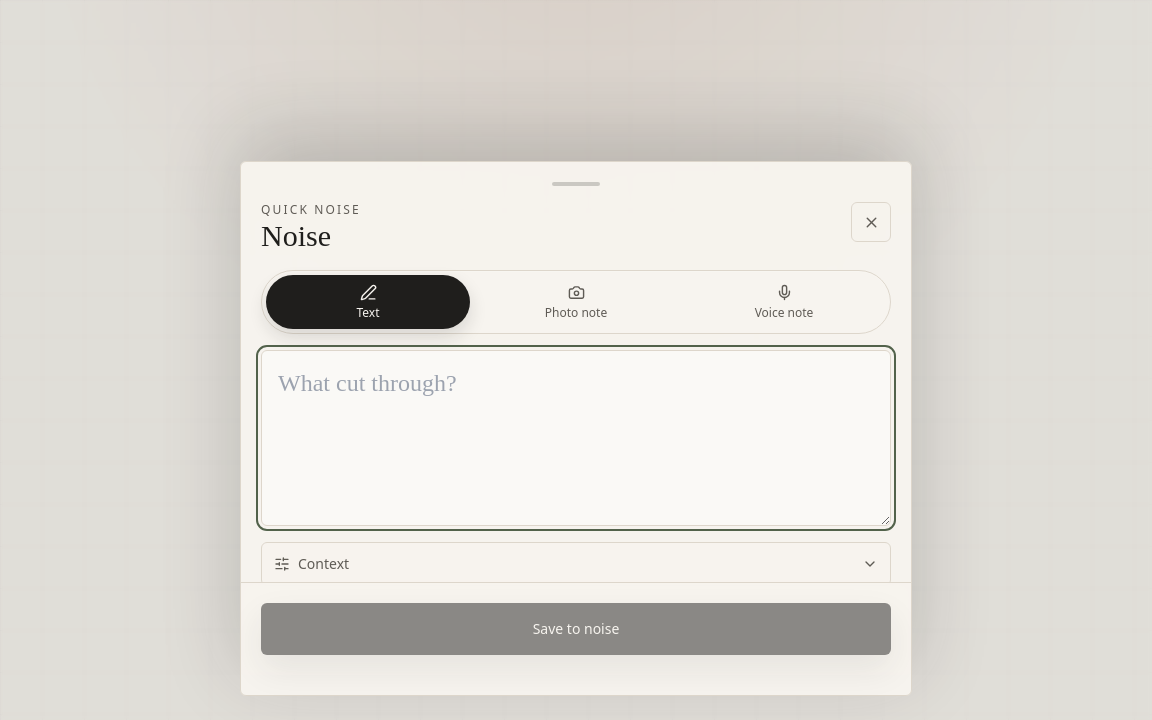
ZeroCaptureSheet › wechselt den Modus per Klick
The image size is (1152, 720).
Click the button "Voice note".
click(784, 302)  # box [682, 275, 886, 329]
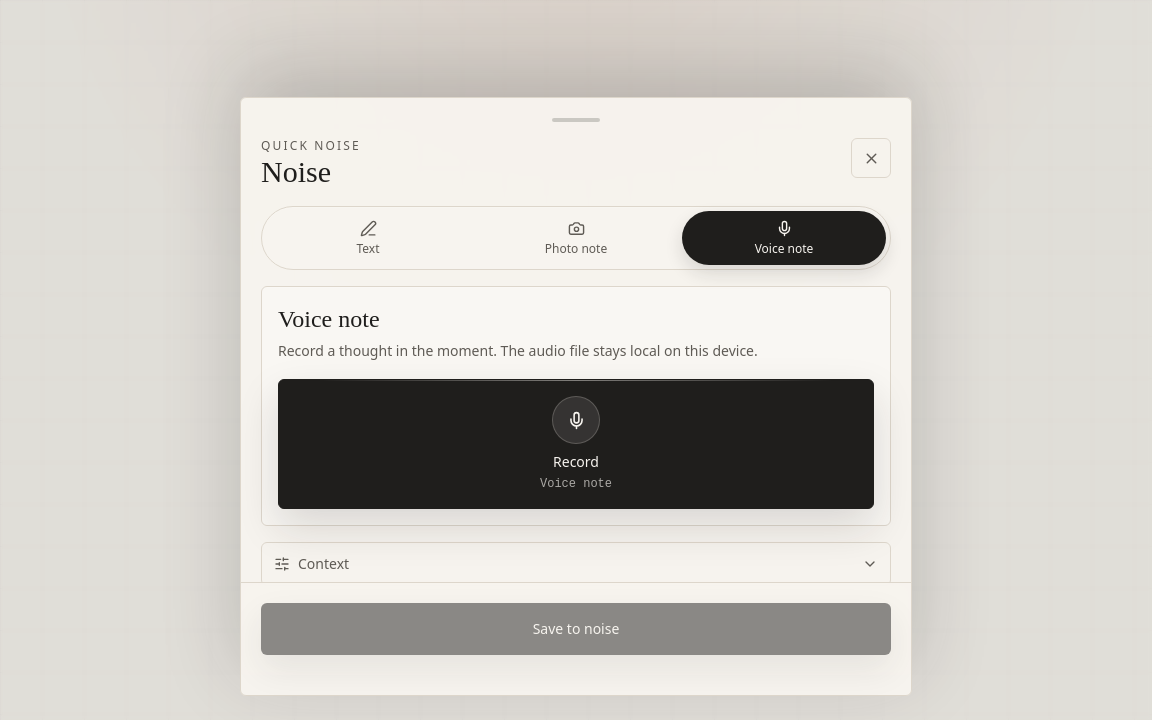
Expected: the button "Voice note" is pressed, [682, 211, 886, 265]
